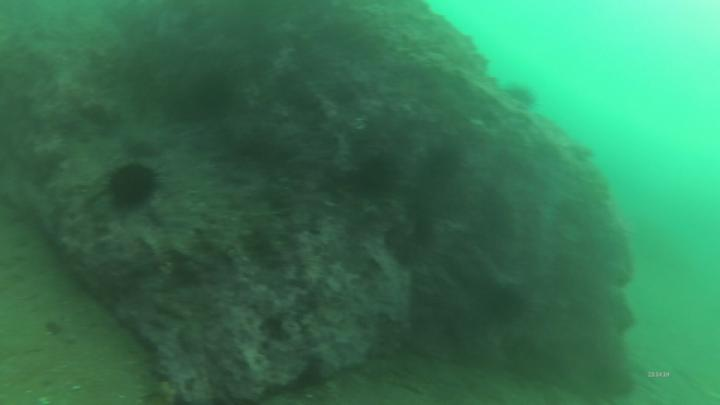echinus: (106, 157, 160, 213), (191, 66, 238, 121), (351, 148, 398, 199), (425, 134, 464, 185), (494, 279, 530, 328)
